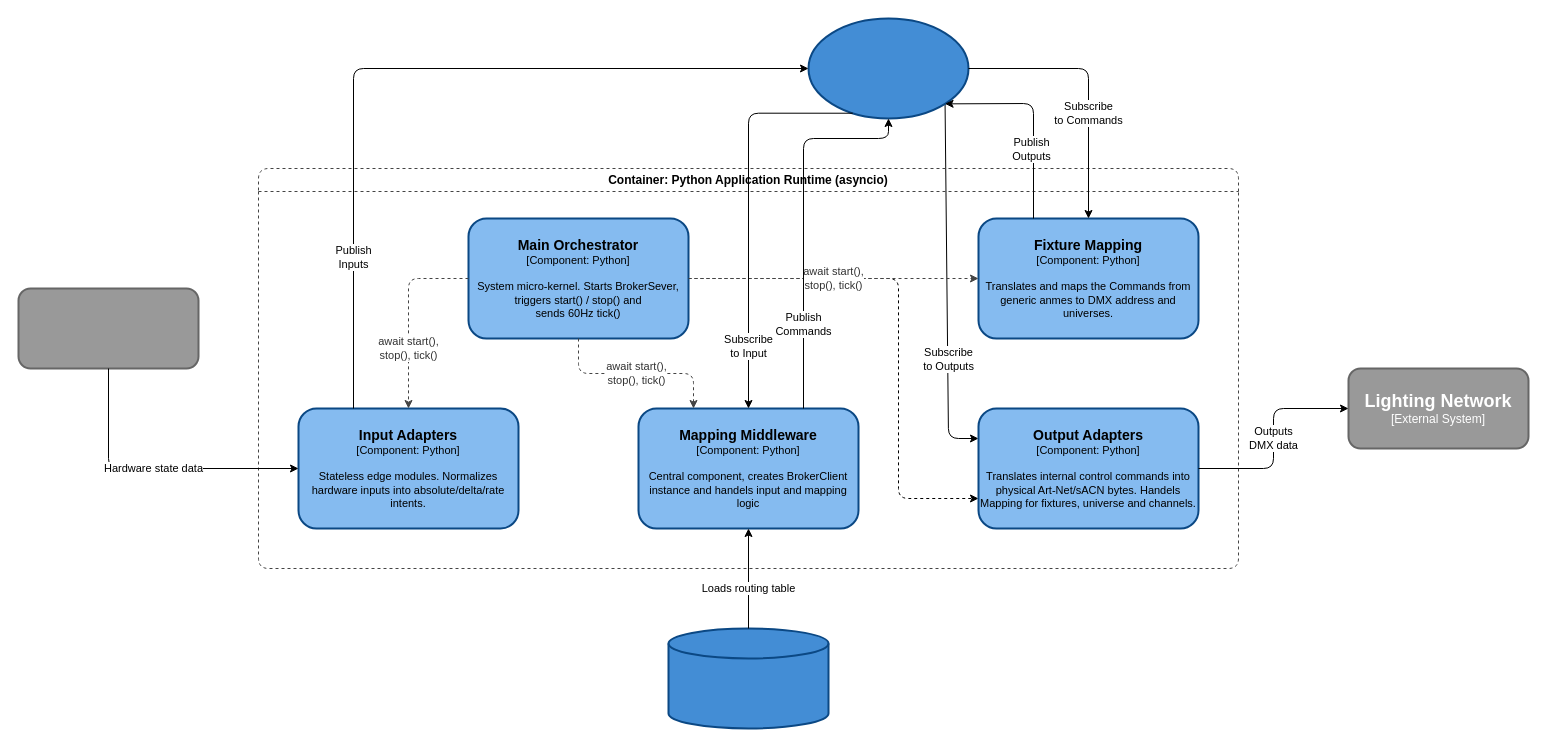
The diagram is 1546 pixels wide and 746 high, and some of its shapes have lost their labels. The shapes that lost their labels are listed below. From the top down, each one's centre as x and y in pixels, then its label:
the point at 888,68: NATS Broker [Container]
the point at 108,328: Input Devices [External System]
the point at 748,678: Mapping Profiles [Container: JSON]
